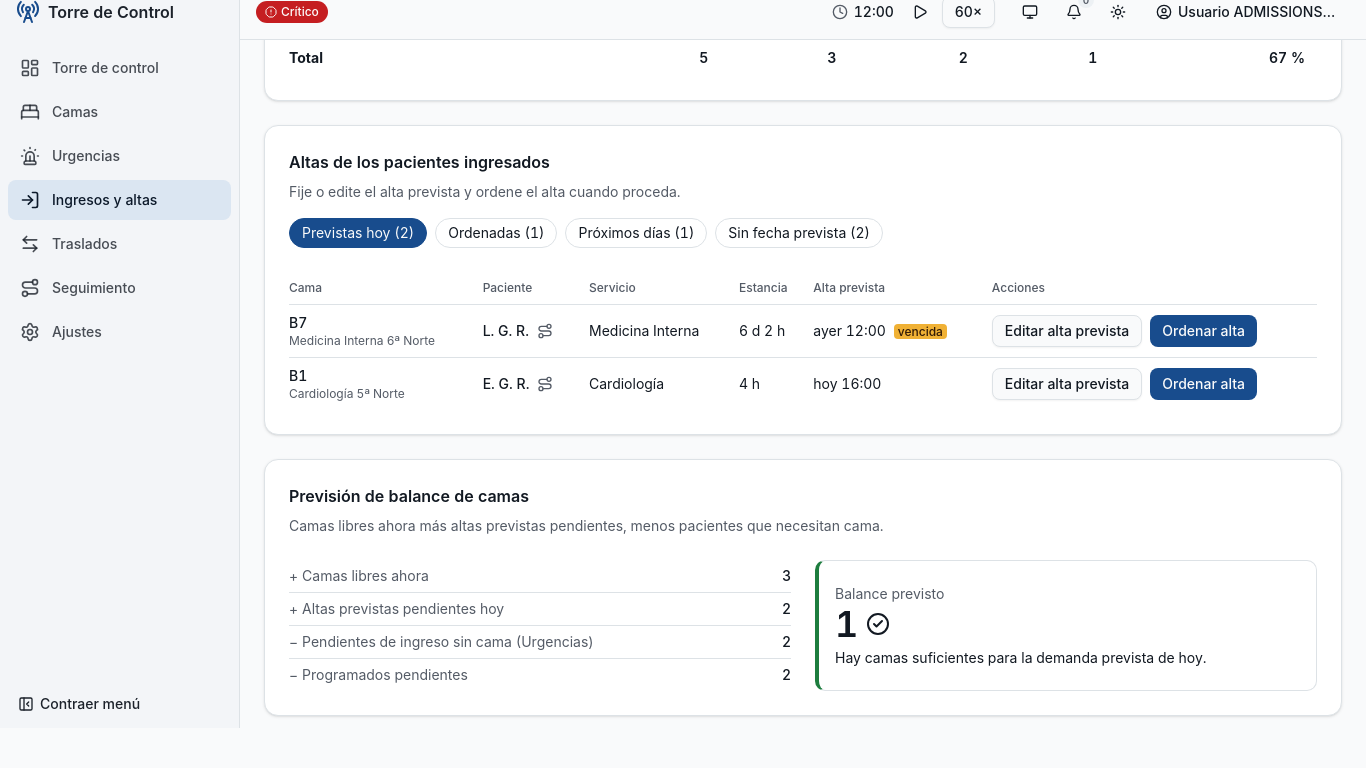
discharge worklist (head) › refuses a time in the past with a message and writes nothing
(page scrolled)
Click the button "Editar alta prevista" in the row of "B1" at [1067, 384], box [992,368,1142,400]
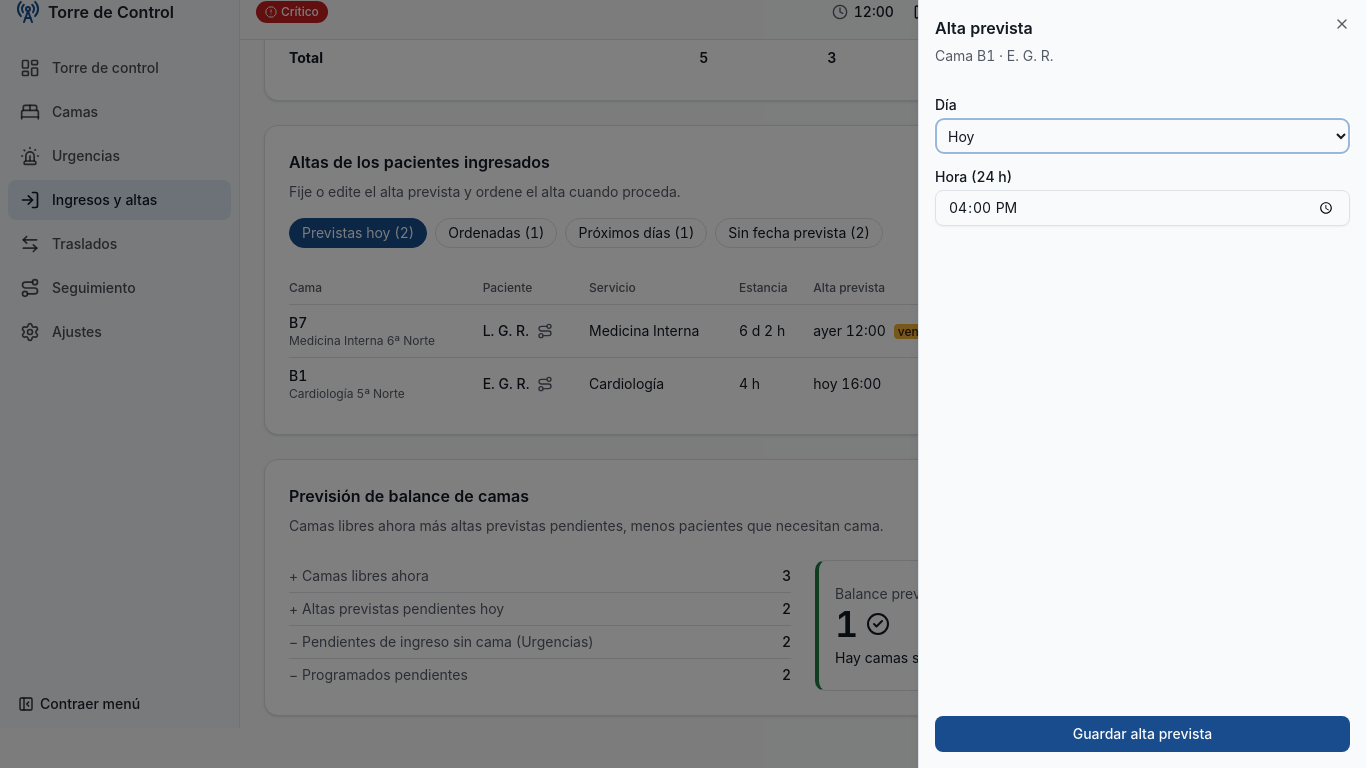
expect the time field labelled "Hora (24 h)" holds "16:00": met
Replace the text in the time field labelled "Hora (24 h)" with "11:00" at [1142, 208], box [935,190,1350,226]
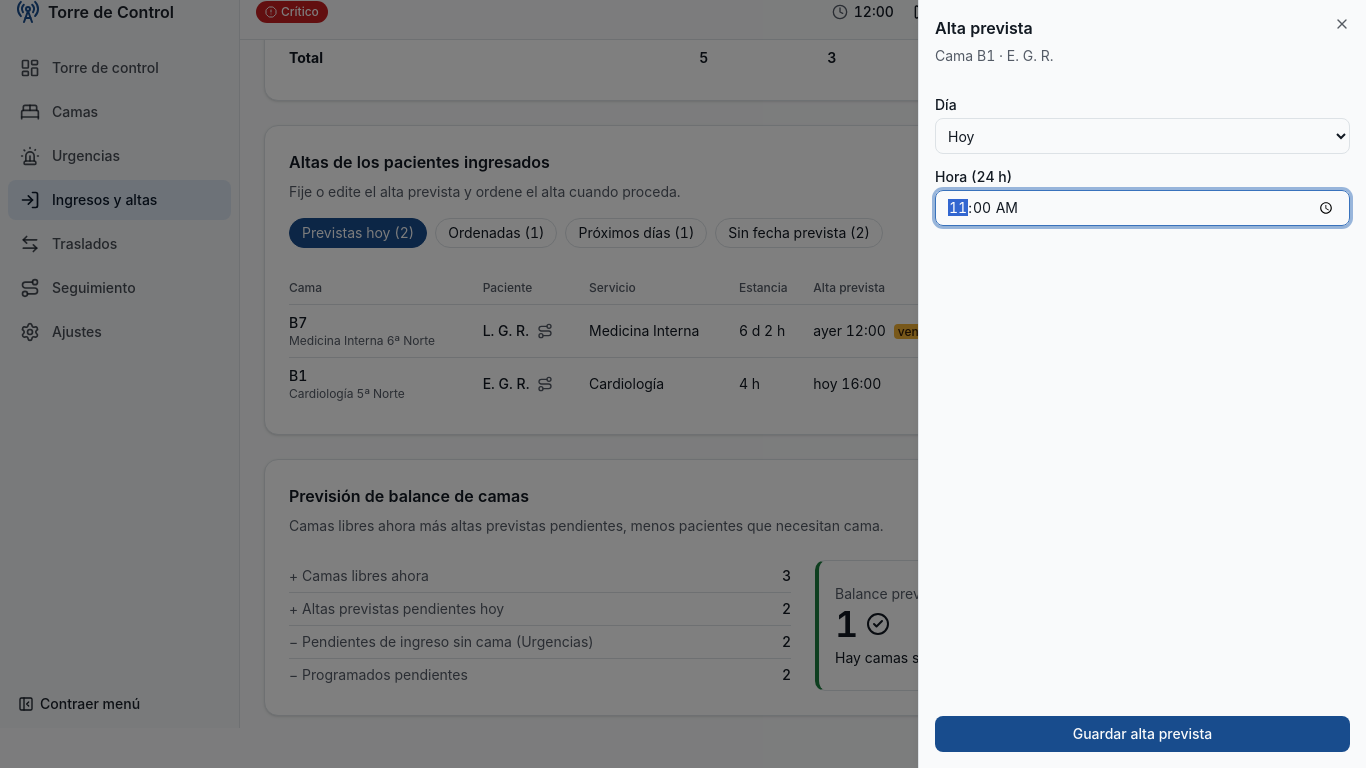
Click the button "Guardar alta prevista" at [1142, 734], box [935,716,1350,752]
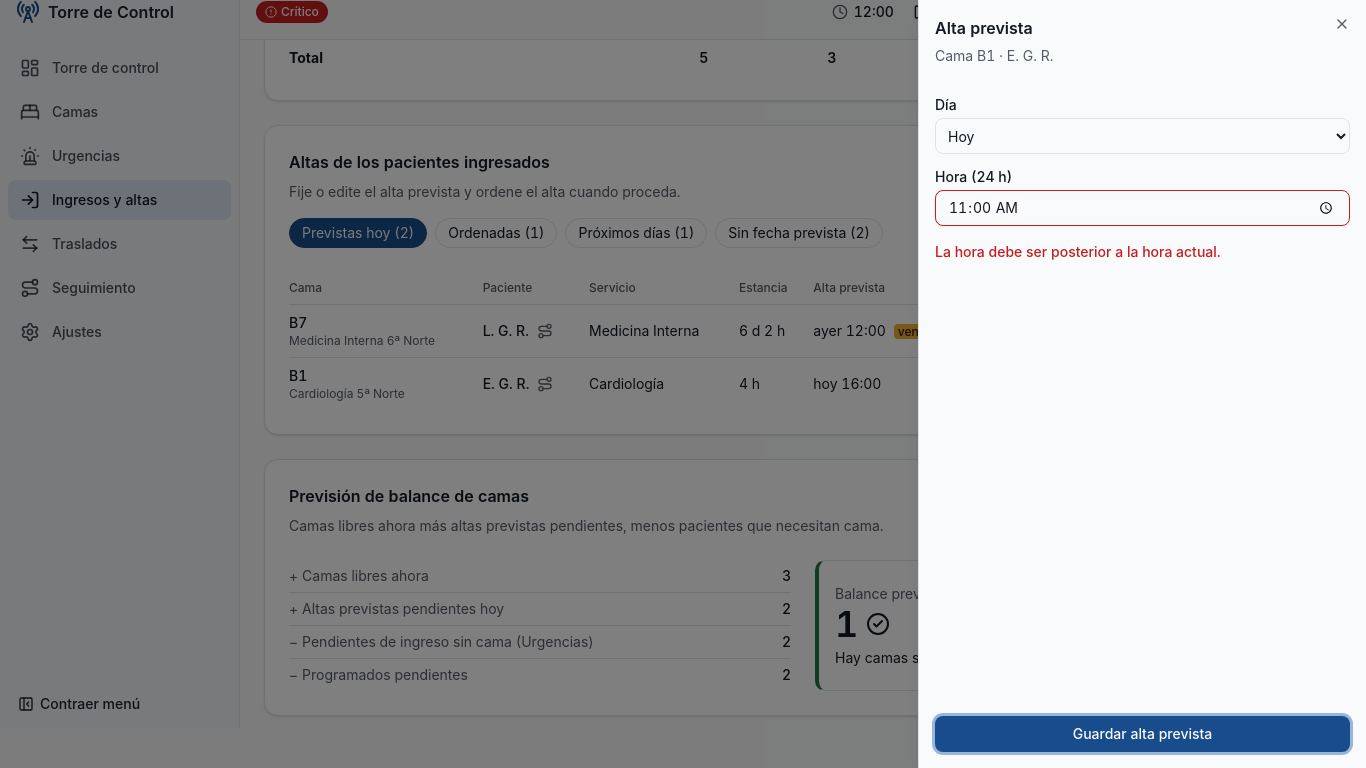
expect the message reads "La hora debe ser posterior a la hora actual.": met, box [935,243,1220,260]
